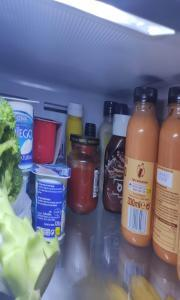Brocoli: (0, 96, 60, 299)
Plátano: (129, 272, 163, 300), (103, 280, 132, 300), (164, 292, 179, 300)
Salsa de tomate: (66, 134, 102, 216)
Yogur: (30, 162, 73, 246), (0, 94, 39, 173), (33, 117, 63, 163)
